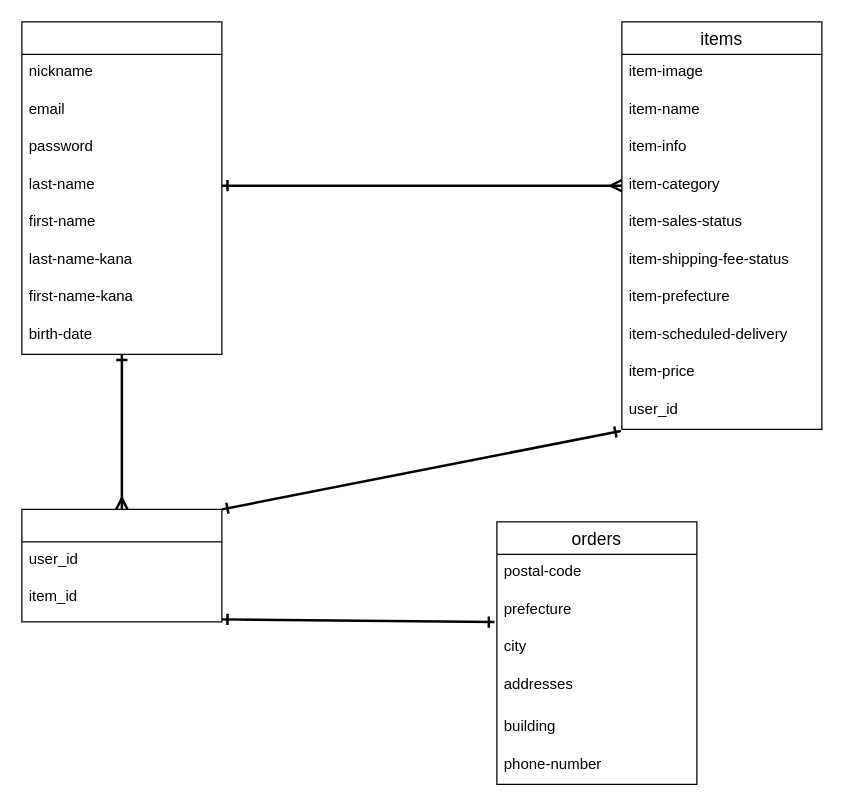
The diagram is 844 pixels wide and 810 high, and some of its shapes have lost their labels. The shapes that lost their labels are listed below. From the top down, each one's box as (x1, y1, x2, y2) in pixels, then its label:
(21, 21, 222, 354): users
(21, 508, 222, 622): purchases
